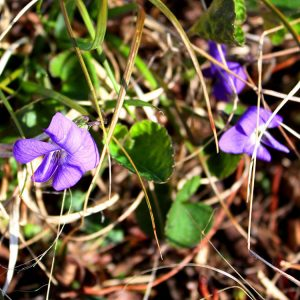violet: (12, 112, 106, 186), (222, 101, 293, 172)
